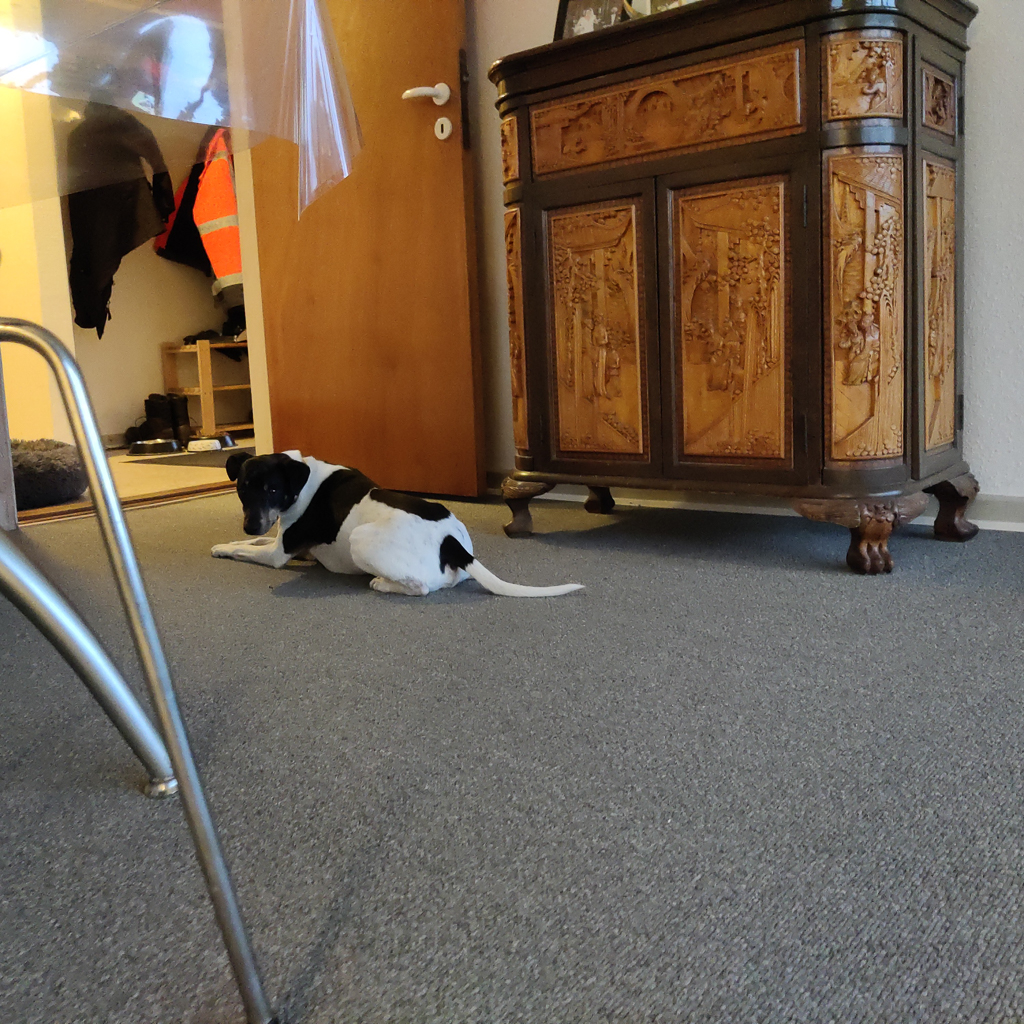Dog: (200, 436, 601, 613)
